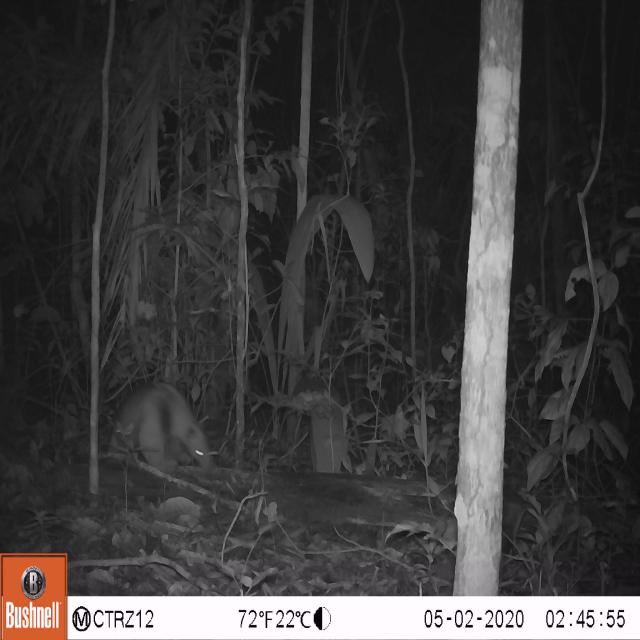Southern Tamandua: (104, 366, 224, 486)
